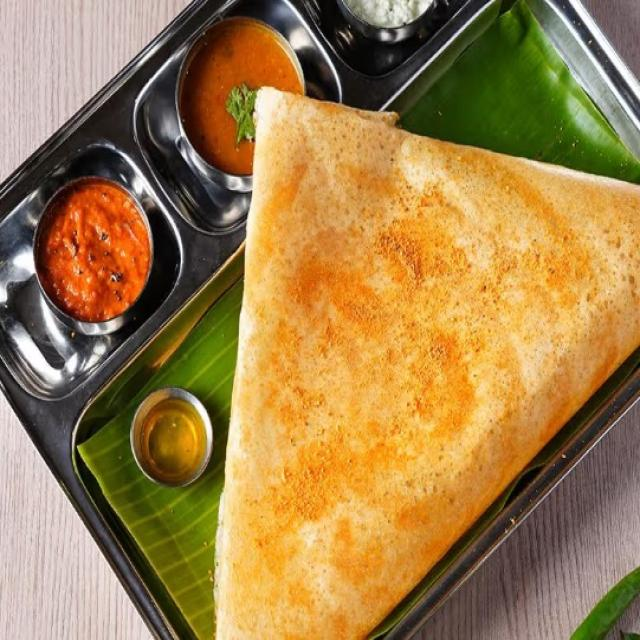DOSA: (213, 78, 639, 639)
RED CHUTNEY: (34, 180, 159, 326)
SAMBAR: (178, 19, 314, 179)
